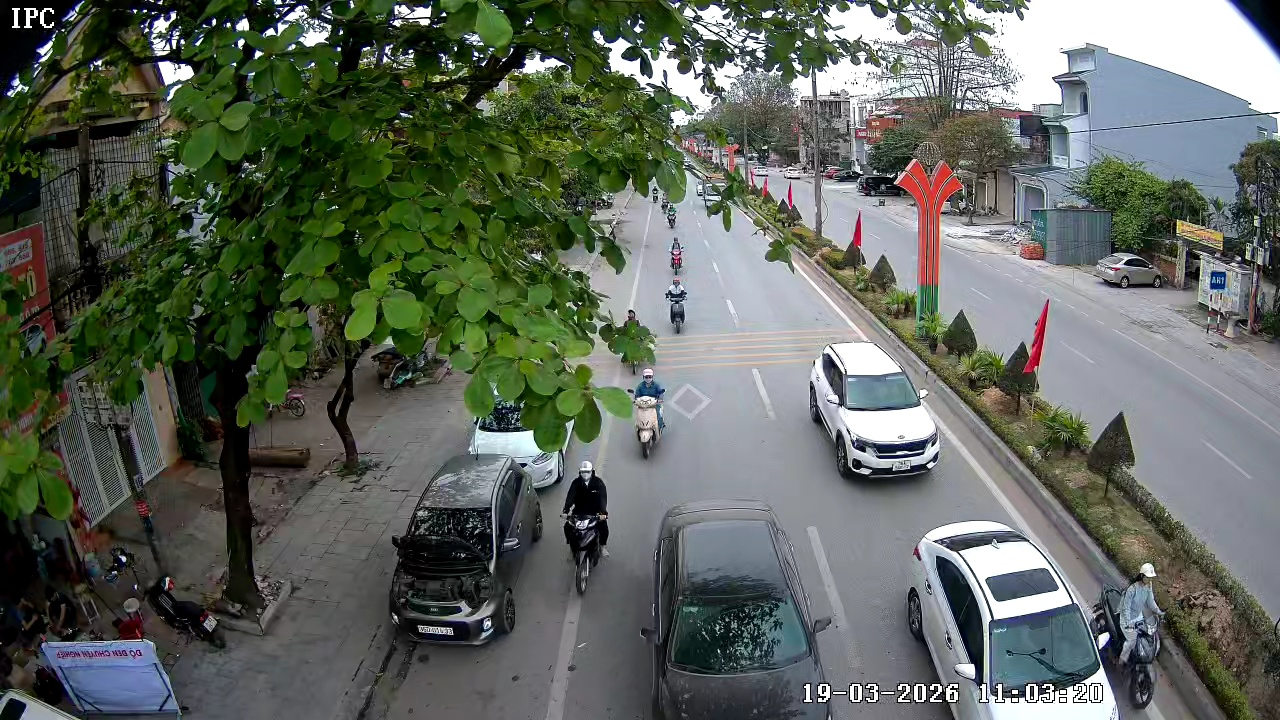car: (905, 520, 1120, 719), (644, 497, 836, 719), (389, 452, 543, 646), (808, 339, 940, 479), (467, 397, 570, 489), (1093, 249, 1166, 289)
motorbike: (1096, 560, 1169, 715), (559, 459, 617, 608), (626, 367, 668, 460), (663, 275, 690, 336), (668, 234, 686, 275), (664, 200, 681, 230), (719, 202, 734, 233)
